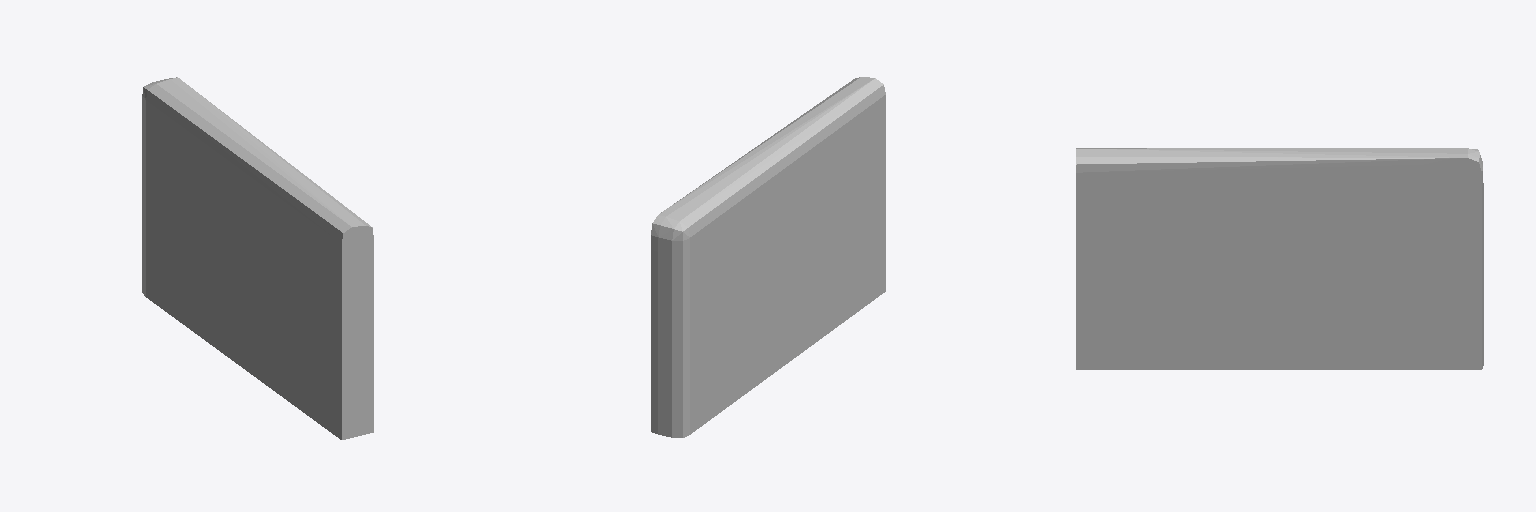
The model's file is ShipScene_collision_8.obj.
3 renders of one model, left to right at view 1: azimuth 30°, elevation 25°; view 2: azimuth 150°, elevation 25°; view 3: azimuth 270°, elevation 25°, orthographic.
Bounding box in the file's own units: 11.95 × 75.21 × 131.